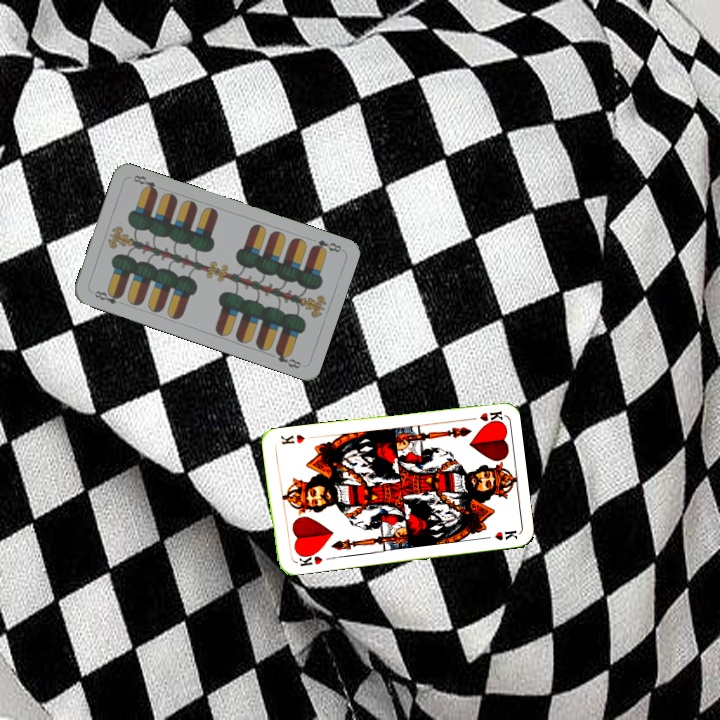E8: (308, 236, 344, 256), (90, 287, 124, 307)
HK: (463, 407, 504, 425), (291, 548, 325, 569)
